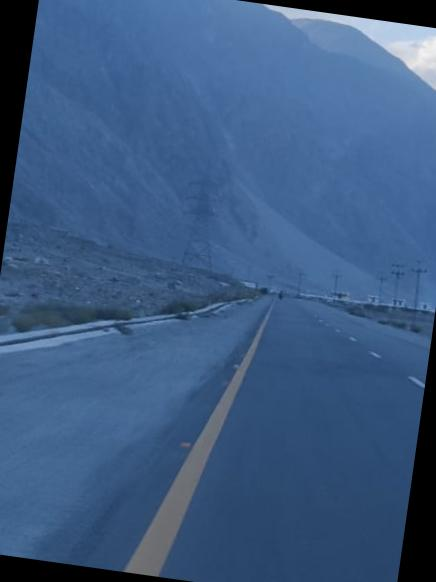sharp_turn: (197, 232, 436, 582)
